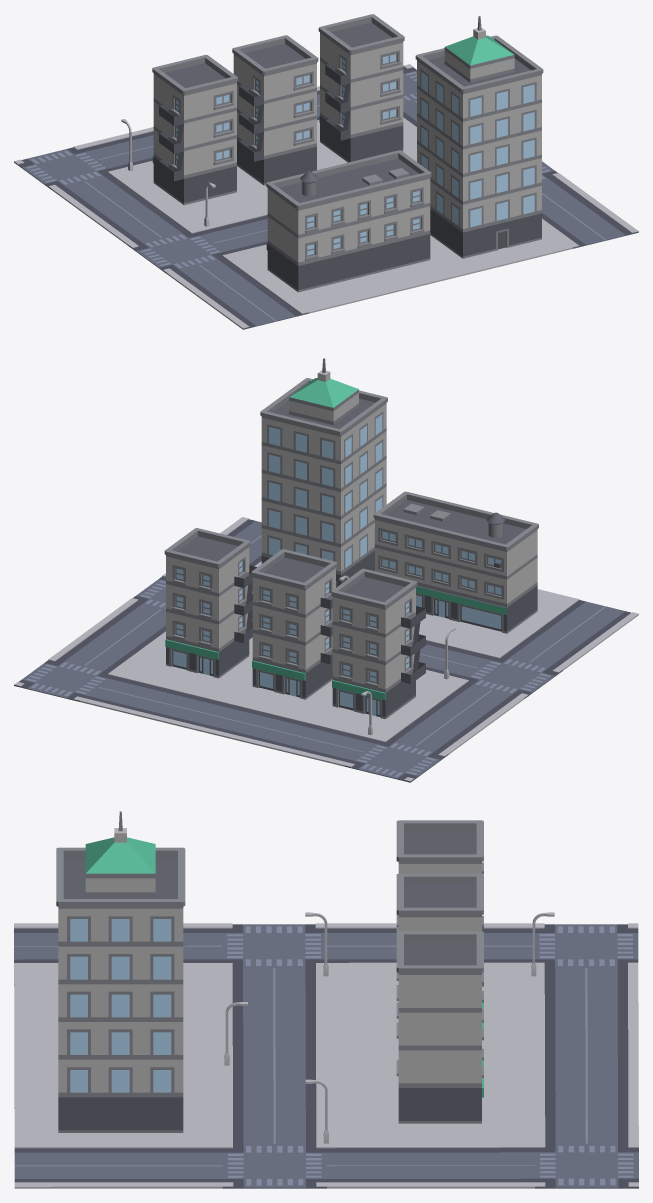
File: city_block5.fbx
The picture shows the model from 3 angles, top to bottom: view 1: azimuth 30°, elevation 25°; view 2: azimuth 150°, elevation 25°; view 3: azimuth 270°, elevation 25°; orthographic projection. The views are drawn at different scales.
Parts seen in each view (by area): view 1: skyscraperE, large_buildingF, large_buildingC, large_buildingC__2_, large_buildingC__1_, road_straight__5_, road_straight__7_, road_straight__4_, road_straight__6_, road_crossroadPath, road_crossroadPath__2_, road_straight__15_ (+12 smaller); view 2: skyscraperE, large_buildingF, large_buildingC, large_buildingC__2_, large_buildingC__1_, road_straight__11_, road_straight__9_, road_straight__10_, road_straight__8_, road_crossroadPath__2_, road_straight__6_, road_straight__7_ (+16 smaller); view 3: skyscraperE, large_buildingC__2_, large_buildingC__1_, road_straight__12_, road_straight__13_, road_crossroadPath__1_, road_straight__14_, road_straight__15_, road_crossroadPath__3_, large_buildingC, road_straight__11_, road_crossroadPath (+28 smaller).
Boxes of the visible parts, left/top/right/bottom form: skyscraperE: left=415, top=16, right=543, bottom=258; large_buildingF: left=266, top=150, right=431, bottom=292; large_buildingC: left=152, top=54, right=238, bottom=205; large_buildingC__2_: left=318, top=14, right=404, bottom=162; large_buildingC__1_: left=232, top=35, right=318, bottom=185; road_straight__5_: left=205, top=284, right=308, bottom=329; road_straight__7_: left=52, top=173, right=155, bottom=217; road_straight__4_: left=166, top=256, right=270, bottom=301; road_straight__6_: left=90, top=201, right=193, bottom=245; road_crossroadPath: left=128, top=228, right=232, bottom=273; road_crossroadPath__2_: left=14, top=145, right=117, bottom=189; road_straight__15_: left=542, top=203, right=638, bottom=248; skyscraperE: left=260, top=358, right=387, bottom=586; large_buildingF: left=373, top=491, right=538, bottom=633; large_buildingC: left=331, top=568, right=425, bottom=719; large_buildingC__2_: left=164, top=528, right=256, bottom=678; large_buildingC__1_: left=251, top=549, right=337, bottom=699; road_straight__11_: left=80, top=673, right=183, bottom=717; road_straight__9_: left=212, top=705, right=315, bottom=750; road_straight__10_: left=146, top=689, right=249, bottom=734; road_straight__8_: left=278, top=721, right=381, bottom=766; road_crossroadPath__2_: left=344, top=737, right=448, bottom=782; road_straight__6_: left=421, top=681, right=524, bottom=726; road_straight__7_: left=383, top=709, right=486, bottom=754; skyscraperE: left=56, top=811, right=185, bottom=1132; large_buildingC__2_: left=396, top=931, right=483, bottom=1123; large_buildingC__1_: left=396, top=873, right=483, bottom=1028; road_straight__12_: left=326, top=1142, right=430, bottom=1188; road_straight__13_: left=430, top=1142, right=534, bottom=1188; road_crossroadPath__1_: left=222, top=1143, right=326, bottom=1188; road_straight__14_: left=118, top=1143, right=222, bottom=1188; road_straight__15_: left=14, top=1143, right=118, bottom=1188; road_crossroadPath__3_: left=535, top=1142, right=638, bottom=1188; large_buildingC: left=396, top=820, right=483, bottom=986; road_straight__11_: left=534, top=1098, right=638, bottom=1143; road_crossroadPath: left=222, top=923, right=324, bottom=968.
Size of the model in its own units: 601 by 315 by 601.
